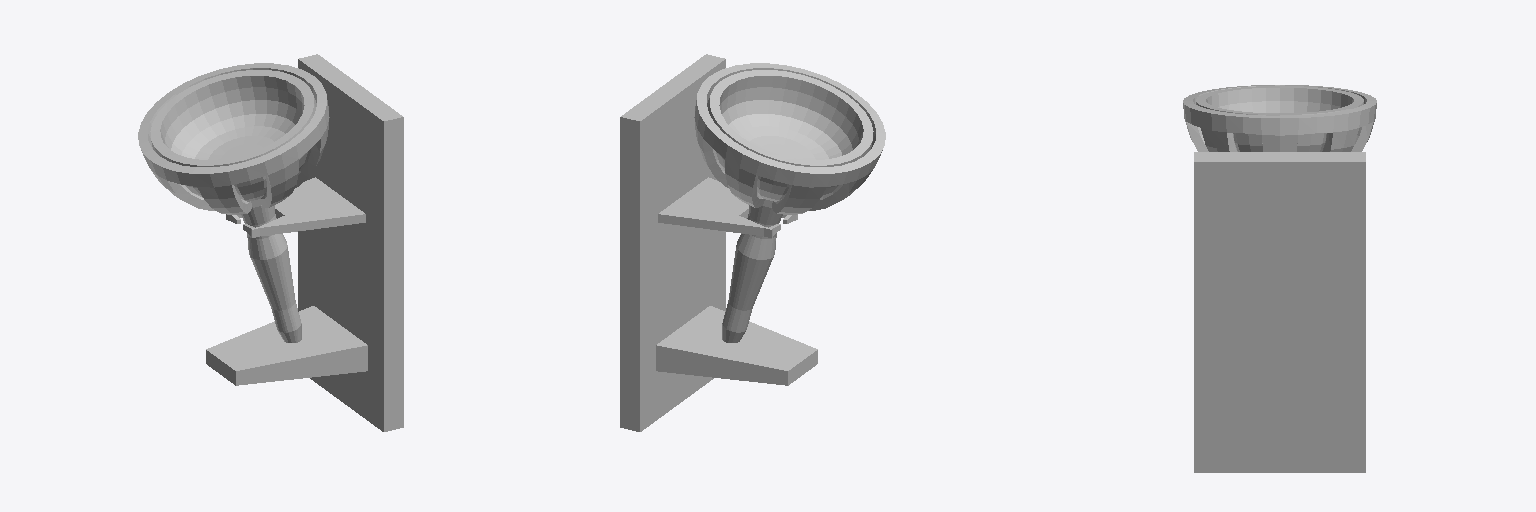
File: Pilastra com Tocha.obj
The picture shows the model from 3 angles: view 1: azimuth 30°, elevation 25°; view 2: azimuth 150°, elevation 25°; view 3: azimuth 270°, elevation 25°; orthographic projection.
Parts seen in each view (by area): view 1: Cube.001_Cube; view 2: Cube.001_Cube; view 3: Cube.001_Cube.
Part boxes in pixels (bbox=[...]): Cube.001_Cube: bbox=[138, 54, 403, 431]; Cube.001_Cube: bbox=[620, 54, 885, 431]; Cube.001_Cube: bbox=[1183, 85, 1376, 472].
Size of the model in its own units: 0.4228 by 0.6402 by 0.3402.